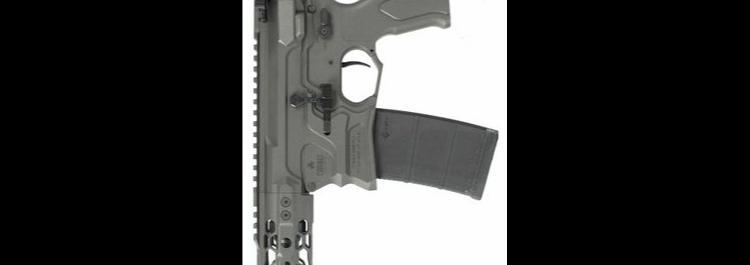gun: (251, 0, 503, 265)
